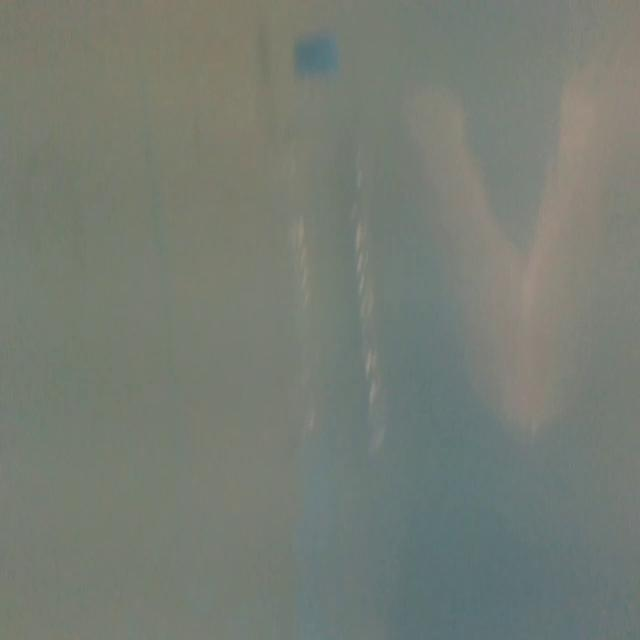plastic bags: (418, 73, 606, 442)
plastic bottle: (278, 36, 403, 488)
